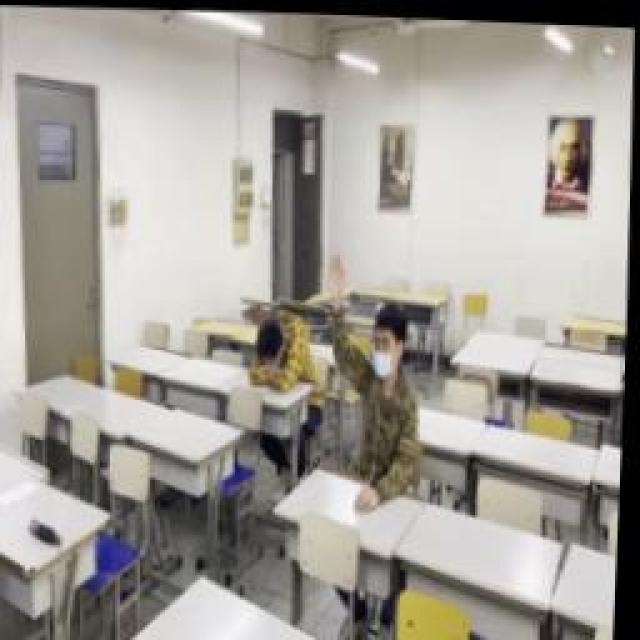sleep: (250, 315, 315, 387)
study: (322, 250, 428, 505)
